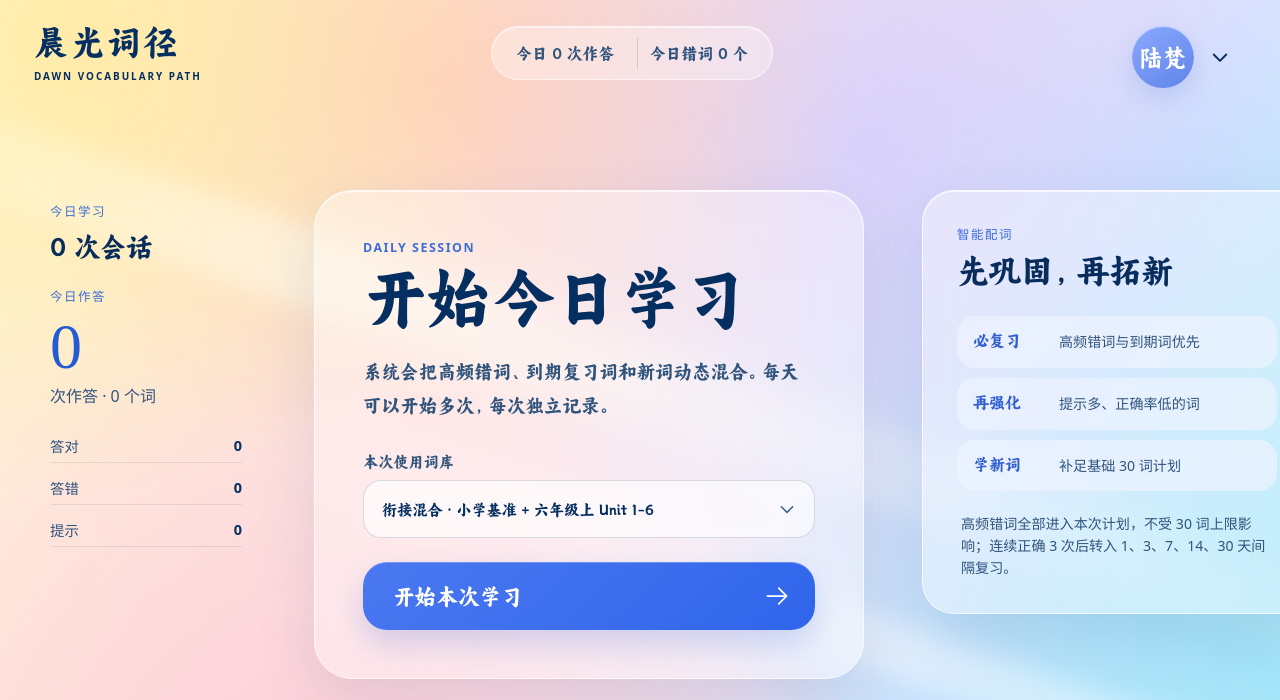
Scenario: 晨光词径每日学习会话 › 先选择词库，再点击按钮开始每日学习
Check: the heading "开始今日学习" is shown, box [363, 258, 747, 337]
Select "六年级上 Unit 1-6 · 277 条图片词表" in the dropdown named "选择词库". click: [589, 509]
box: [363, 480, 815, 538]
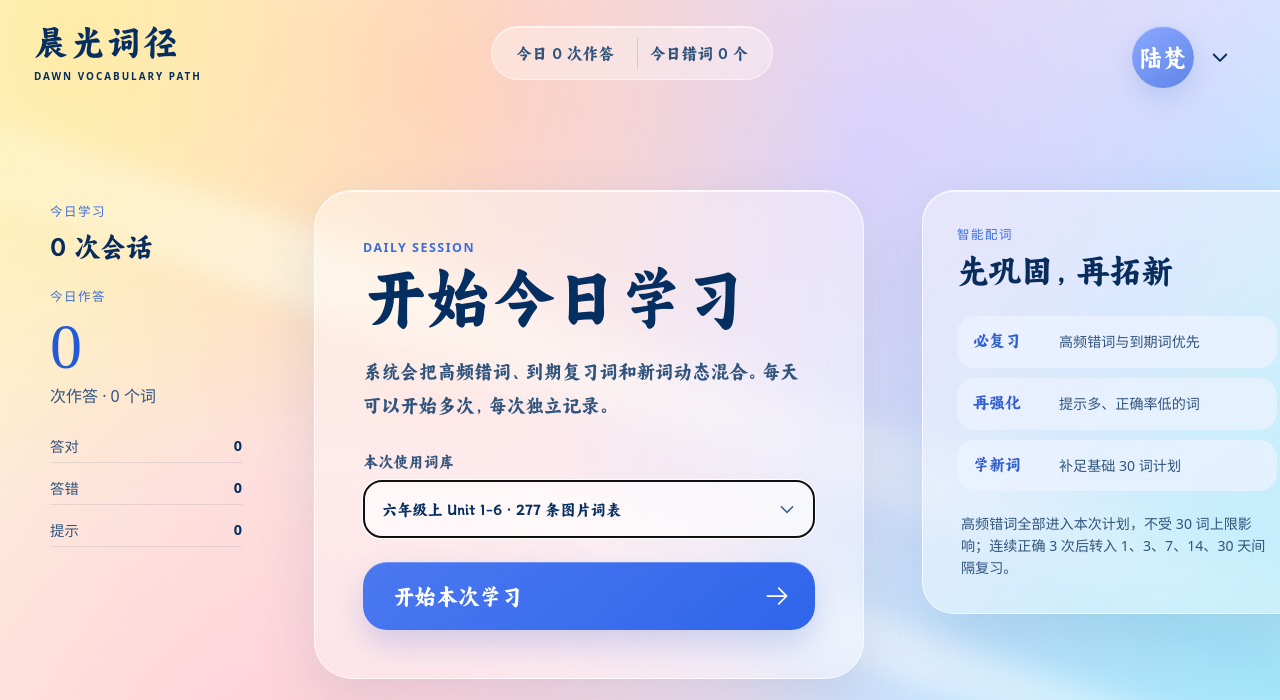
Click the button "开始本次学习". click: [458, 596]
box: [363, 562, 815, 630]
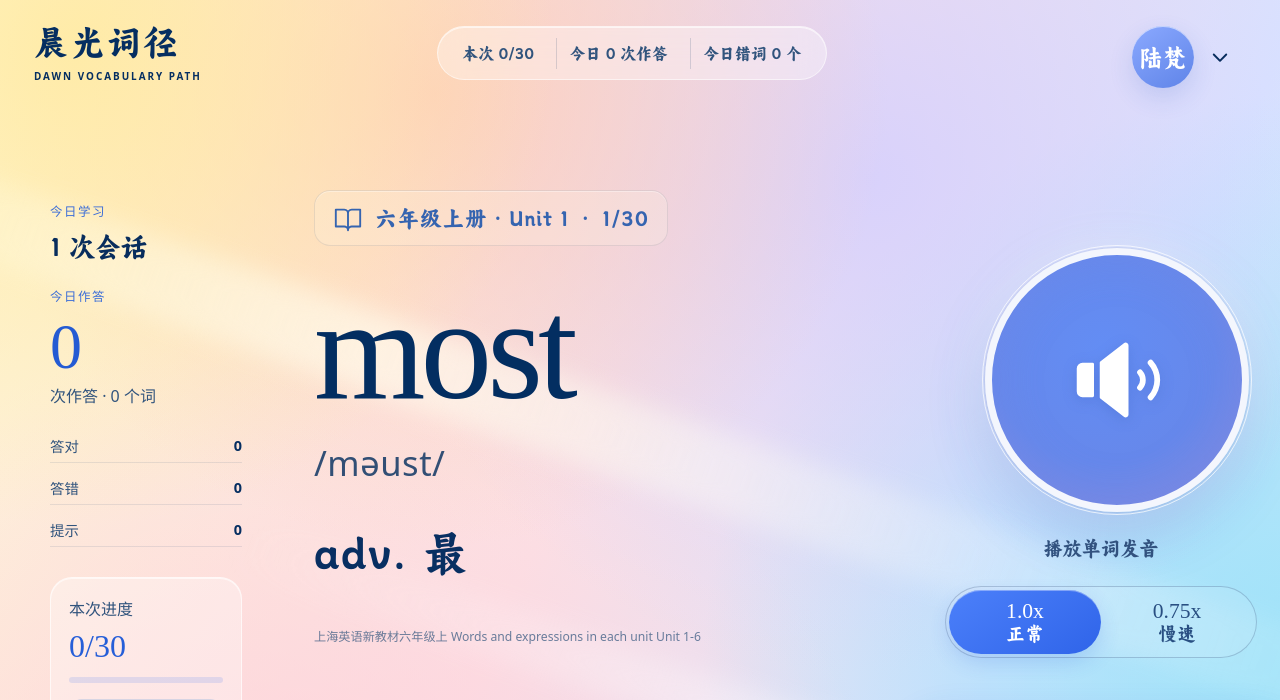
Check: the text "六年级上册 · Unit 1" is shown, box [375, 204, 570, 232]
Check: the text "本次 0/30" is shown, box [462, 44, 534, 62]
